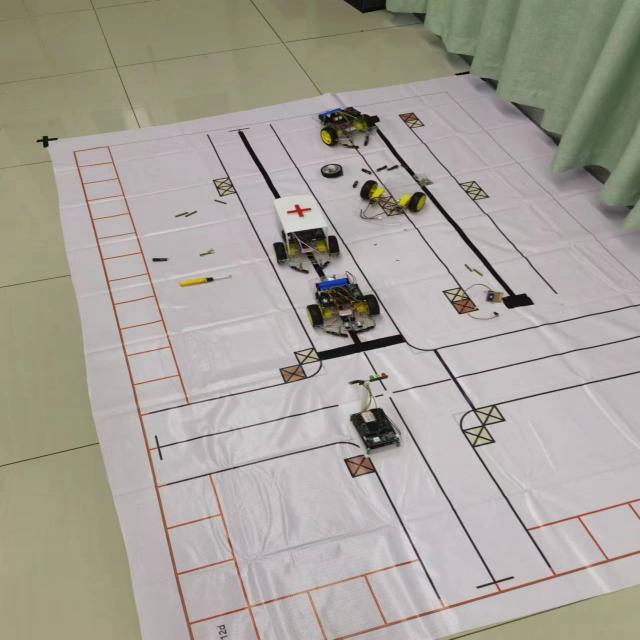RedCross: (284, 204, 316, 218)
